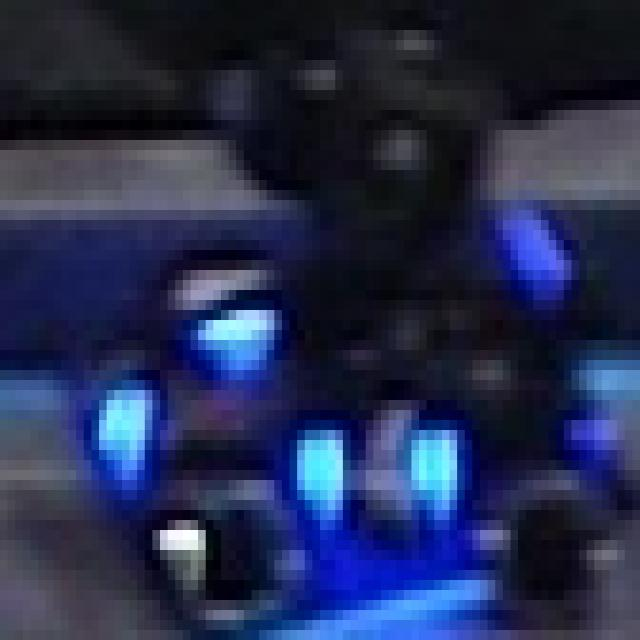B4: (297, 410, 465, 530)
